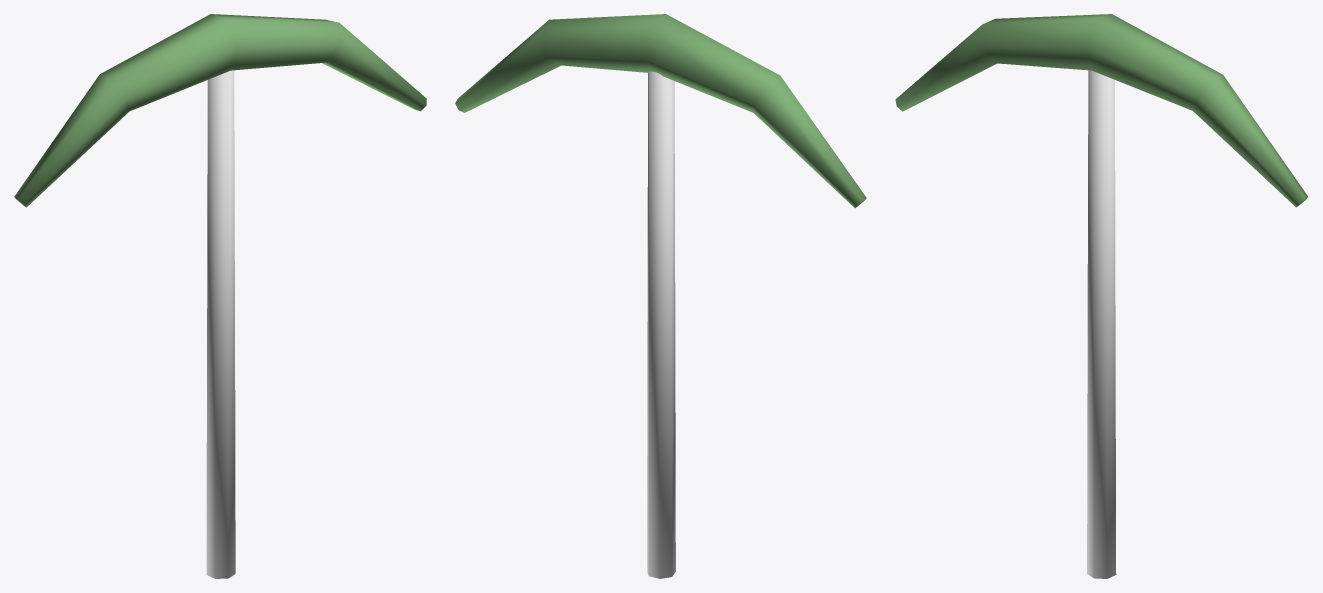
Rendered from tungsten_pickaxe.glb.
3 renders of one model, left to right at view 1: azimuth 30°, elevation 25°; view 2: azimuth 150°, elevation 25°; view 3: azimuth 330°, elevation 25°, orthographic.
Visible parts, largest first — view 1: tungsten_pickaxe_v0; view 2: tungsten_pickaxe_v0; view 3: tungsten_pickaxe_v0.
Part boxes in pixels (x1,y1,x2,y2): tungsten_pickaxe_v0: (14,14,426,578); tungsten_pickaxe_v0: (455,14,866,578); tungsten_pickaxe_v0: (895,14,1307,578).
Size of the model in its own units: 0.6949 by 0.9026 by 0.0883.
